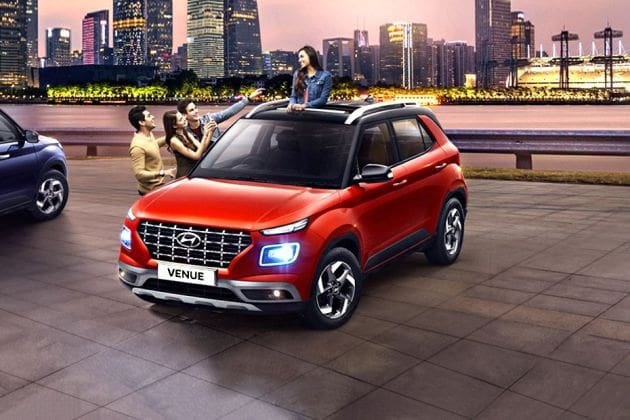car: (121, 98, 470, 326)
